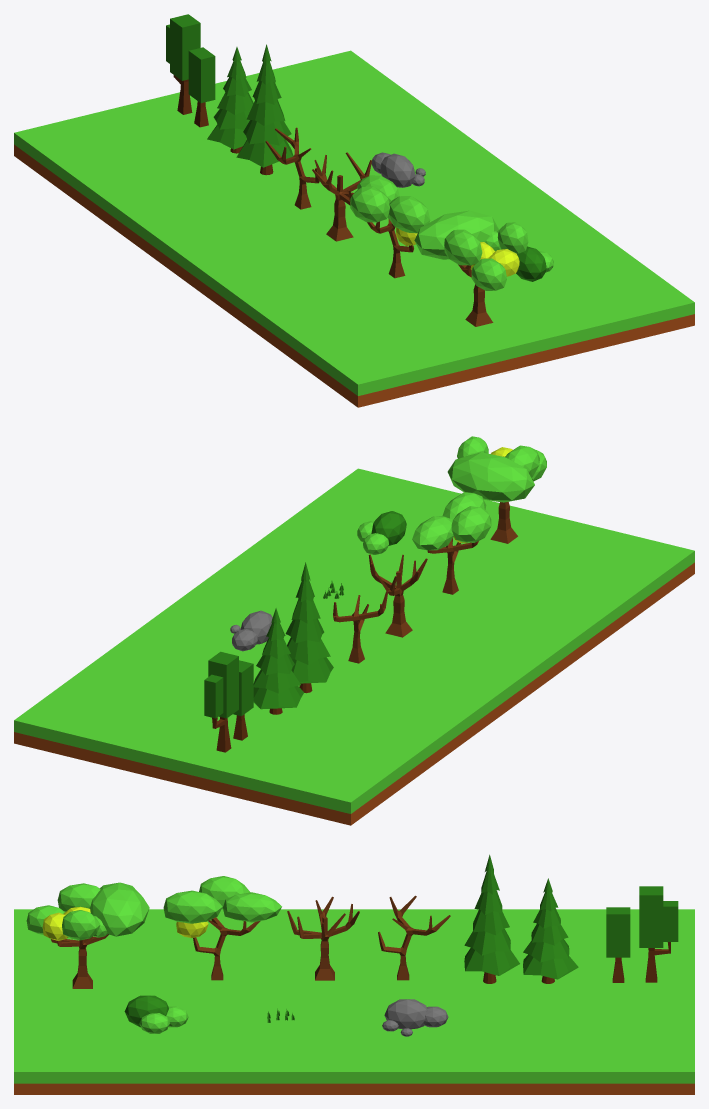
The model's file is Tree Pack.fbx.
3 renders of one model, top to bottom at view 1: azimuth 30°, elevation 25°; view 2: azimuth 150°, elevation 25°; view 3: azimuth 270°, elevation 25°, orthographic.
Visible parts, largest first — view 1: Plane.004, Cylinder.001, Cylinder.002, Icosphere.004, Plane.002, Cube.001, Cube, Icosphere.008, Icosphere.009, Icosphere.002, Plane.003, Icosphere (+5 smaller); view 2: Plane.004, Cylinder.001, Icosphere.004, Cylinder.002, Plane.002, Cube.001, Icosphere.009, Icosphere.007, Plane.003, Icosphere.011, Cube.003, Cube (+5 smaller); view 3: Plane.004, Cylinder.001, Cylinder.002, Icosphere.004, Cube.001, Icosphere.008, Plane.002, Icosphere.007, Cube, Plane.003, Icosphere.014, Icosphere.005 (+12 smaller).
Boxes of the visible parts, box(x1,y1,x2,y2) form: Plane.004: box(14, 50, 694, 407); Cylinder.001: box(236, 44, 293, 175); Cylinder.002: box(207, 47, 253, 153); Icosphere.004: box(414, 210, 498, 259); Plane.002: box(312, 152, 371, 241); Cube.001: box(170, 14, 200, 80); Cube: box(188, 47, 215, 103); Icosphere.008: box(388, 196, 430, 233); Icosphere.009: box(350, 186, 389, 222); Icosphere.002: box(444, 229, 482, 265); Plane.003: box(265, 127, 319, 209); Icosphere: box(471, 258, 506, 290); Plane.004: box(14, 468, 694, 825); Cylinder.001: box(285, 562, 333, 693); Icosphere.004: box(447, 452, 534, 502); Cylinder.002: box(253, 608, 304, 714); Plane.002: box(368, 554, 427, 637); Cube.001: box(208, 651, 238, 718); Icosphere.009: box(451, 506, 491, 542); Icosphere.007: box(412, 516, 453, 550); Plane.003: box(333, 591, 387, 663); Icosphere.011: box(371, 511, 406, 545); Cube.003: box(204, 674, 223, 718); Cube: box(233, 660, 253, 716); Plane.004: box(14, 909, 694, 1094); Cylinder.001: box(464, 854, 519, 983); Cylinder.002: box(523, 878, 578, 983); Icosphere.004: box(90, 882, 149, 936); Cube.001: box(639, 886, 663, 947); Icosphere.008: box(163, 890, 222, 923); Plane.002: box(287, 896, 359, 980); Icosphere.007: box(223, 892, 281, 922); Cube: box(606, 907, 630, 957); Plane.003: box(378, 895, 450, 980); Icosphere.014: box(384, 999, 427, 1029); Icosphere.005: box(62, 910, 100, 940).
Bounding box in the file's own units: 4678 × 2013 × 8275.
